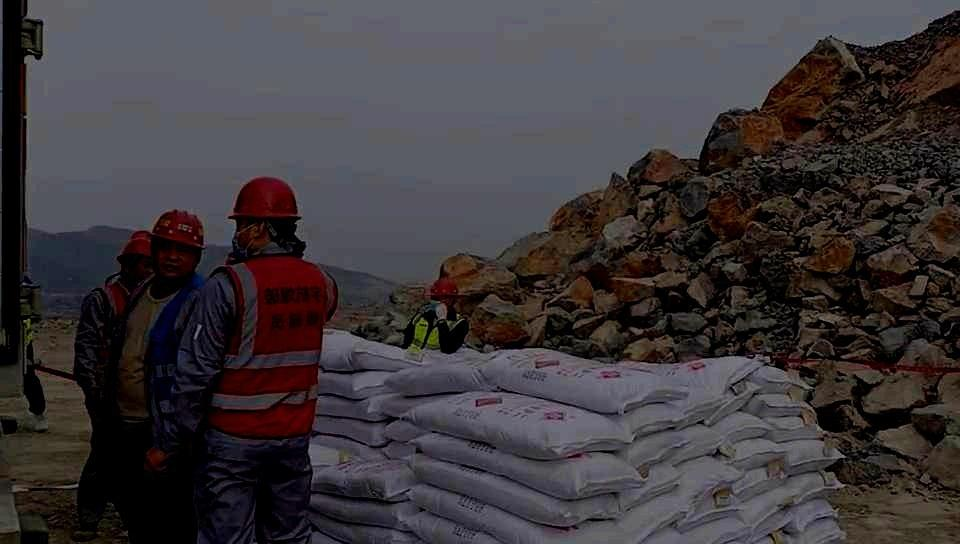helmet: (226, 175, 303, 261), (146, 208, 208, 283), (117, 237, 152, 282), (425, 277, 460, 313), (128, 229, 152, 242)
